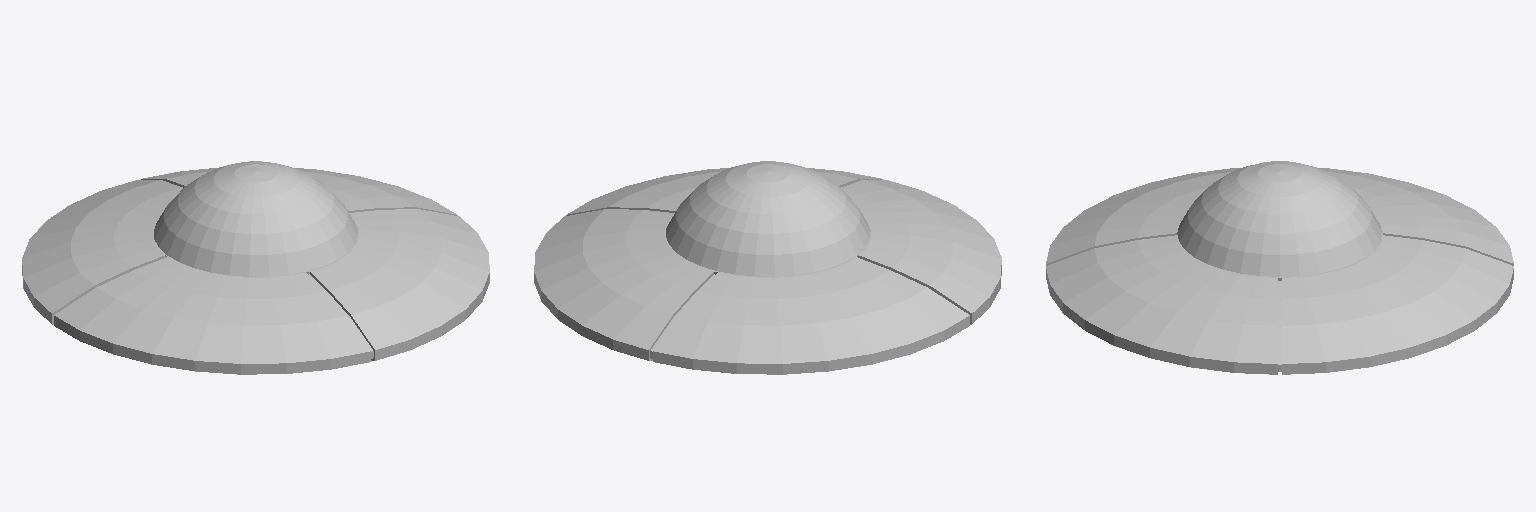
File: ufo.obj
The picture shows the model from 3 angles: view 1: azimuth 30°, elevation 25°; view 2: azimuth 150°, elevation 25°; view 3: azimuth 270°, elevation 25°; orthographic projection.
Visible parts, largest first — view 1: UFO_body, UFO_cockpit; view 2: UFO_body, UFO_cockpit; view 3: UFO_body, UFO_cockpit.
Boxes of the visible parts, x1=… form: UFO_body: x1=22, y1=167, x2=489, y2=374; UFO_cockpit: x1=154, y1=161, x2=357, y2=276; UFO_body: x1=534, y1=168, x2=1001, y2=374; UFO_cockpit: x1=666, y1=161, x2=870, y2=276; UFO_body: x1=1046, y1=168, x2=1513, y2=374; UFO_cockpit: x1=1177, y1=161, x2=1381, y2=276.
Bounding box in the file's own units: 1.28 × 0.5098 × 1.28.